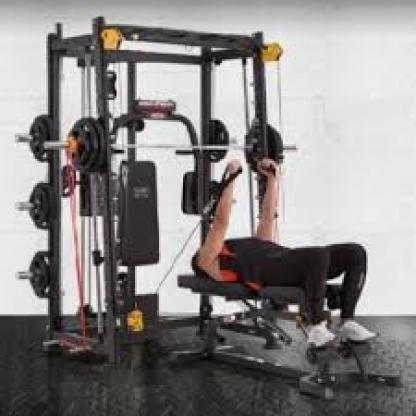smith machine: (17, 15, 404, 404)
